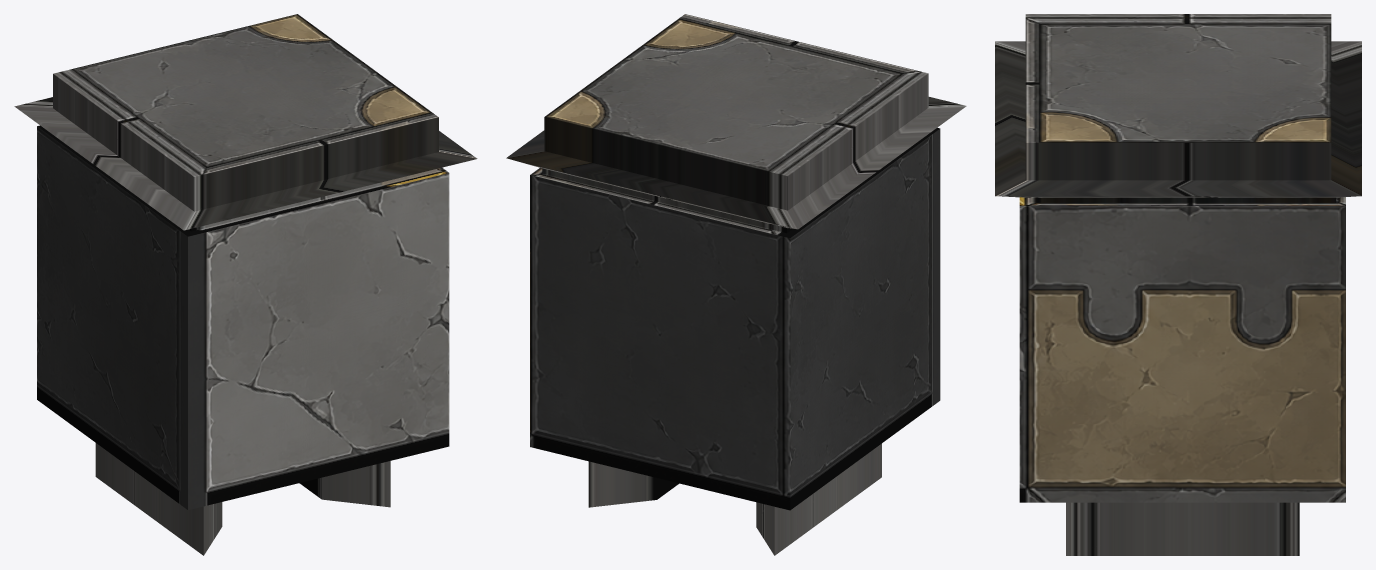
The model's file is cubito.fbx.
3 renders of one model, left to right at view 1: azimuth 30°, elevation 25°; view 2: azimuth 150°, elevation 25°; view 3: azimuth 270°, elevation 25°, orthographic. The views are drawn at different scales.
Visible parts, largest first — view 1: Cube; view 2: Cube; view 3: Cube.
Part boxes in pixels (bbox=[...]): Cube: bbox=[14, 14, 477, 555]; Cube: bbox=[506, 14, 966, 555]; Cube: bbox=[995, 14, 1361, 555].
Size of the model in its own units: 225 by 292 by 225.
Materials: 1 (1 with a texture image).
